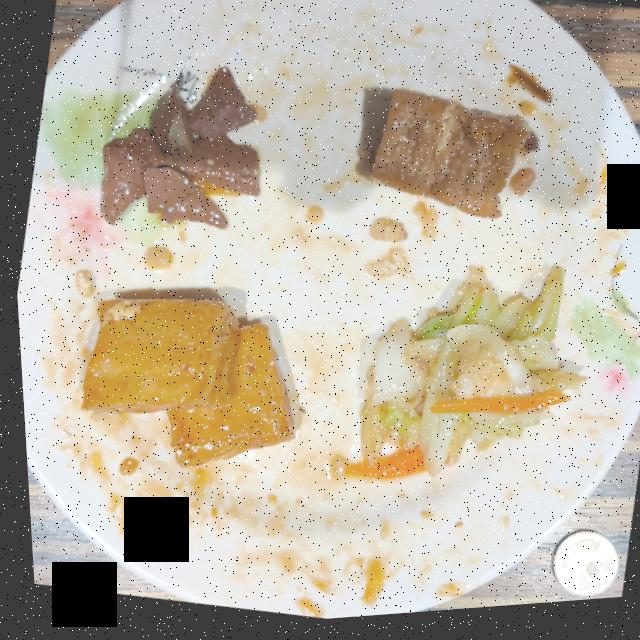cabbage: (327, 275, 580, 485)
coin: (544, 539, 610, 604)
creamy tofu: (76, 301, 288, 469)
egg tofu: (367, 95, 528, 227)
pig blood curd: (97, 70, 257, 233)
